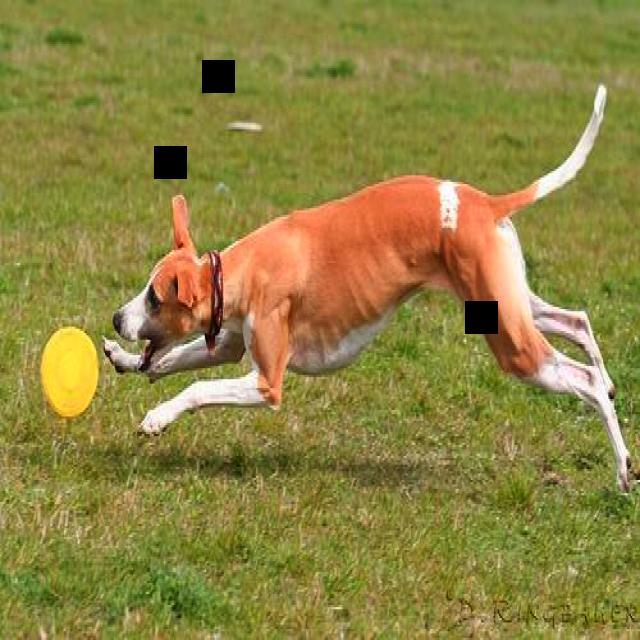adult_dog: (96, 80, 639, 495)
